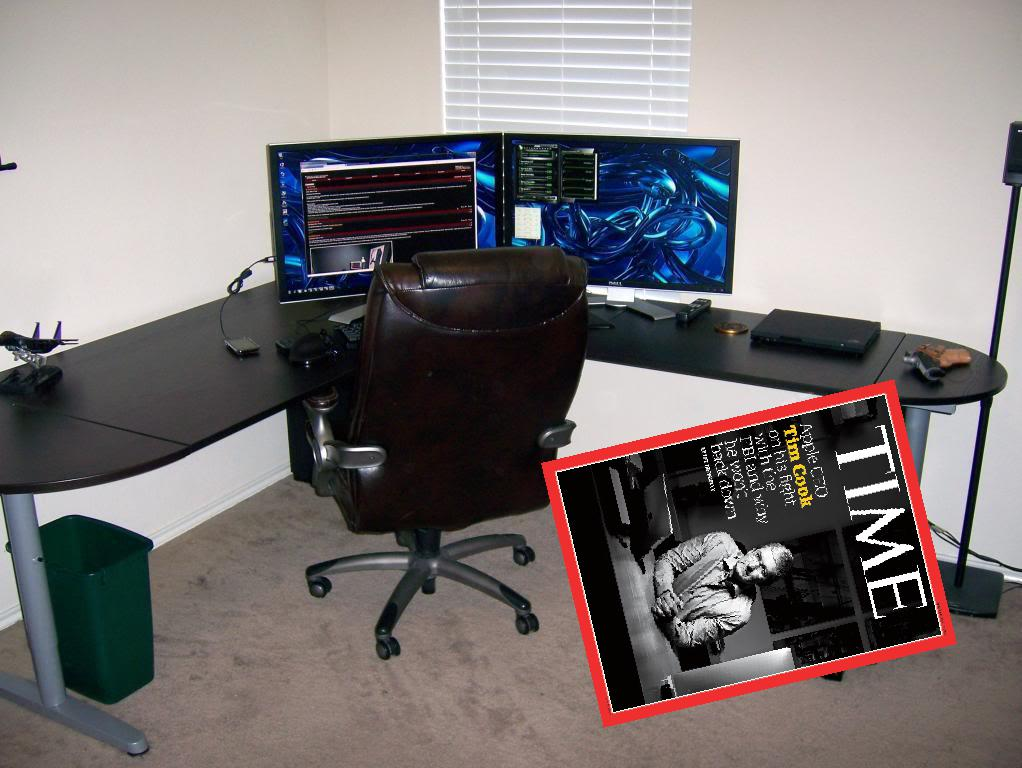times: (540, 376, 958, 733)
